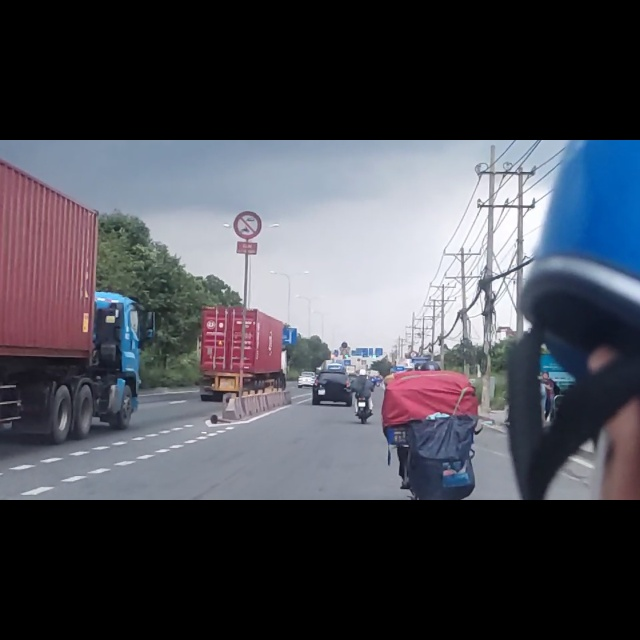bien_chi_dan: (234, 124, 262, 178)
